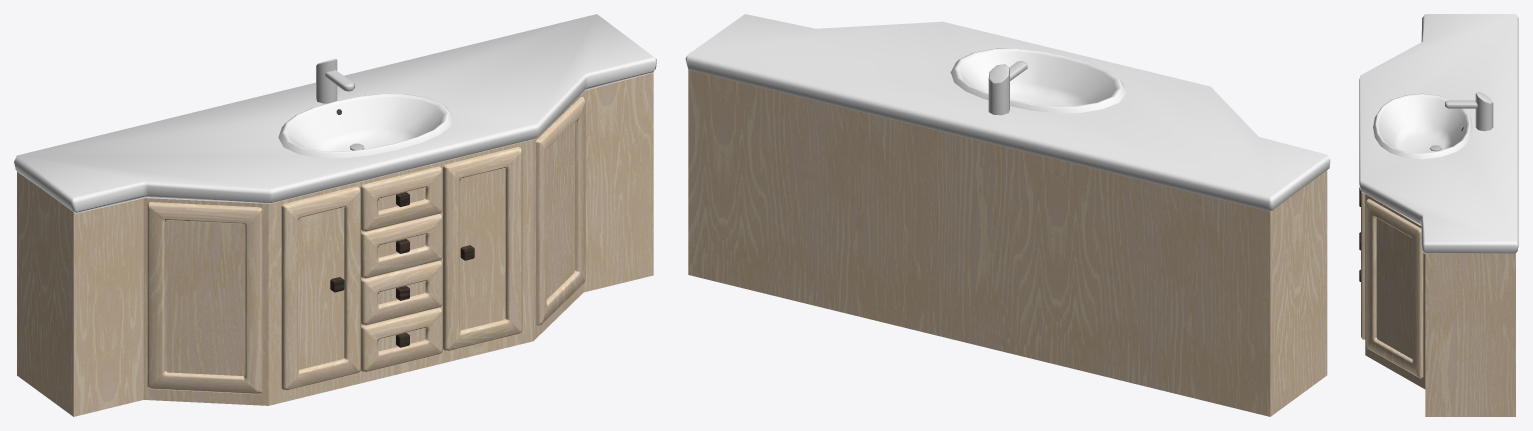
Rendered from bathroom_011.fbx.
The picture shows the model from 3 angles, left to right: view 1: azimuth 30°, elevation 25°; view 2: azimuth 150°, elevation 25°; view 3: azimuth 270°, elevation 25°; orthographic projection. The views are drawn at different scales.
Parts seen in each view (by area): view 1: bathroom_011; view 2: bathroom_011; view 3: bathroom_011.
Boxes of the visible parts, x1,y1,x2,y2 form: bathroom_011: (14,14,656,416); bathroom_011: (685,14,1330,416); bathroom_011: (1359,14,1518,416).
Size of the model in its own units: 285 by 83.87 by 122.
